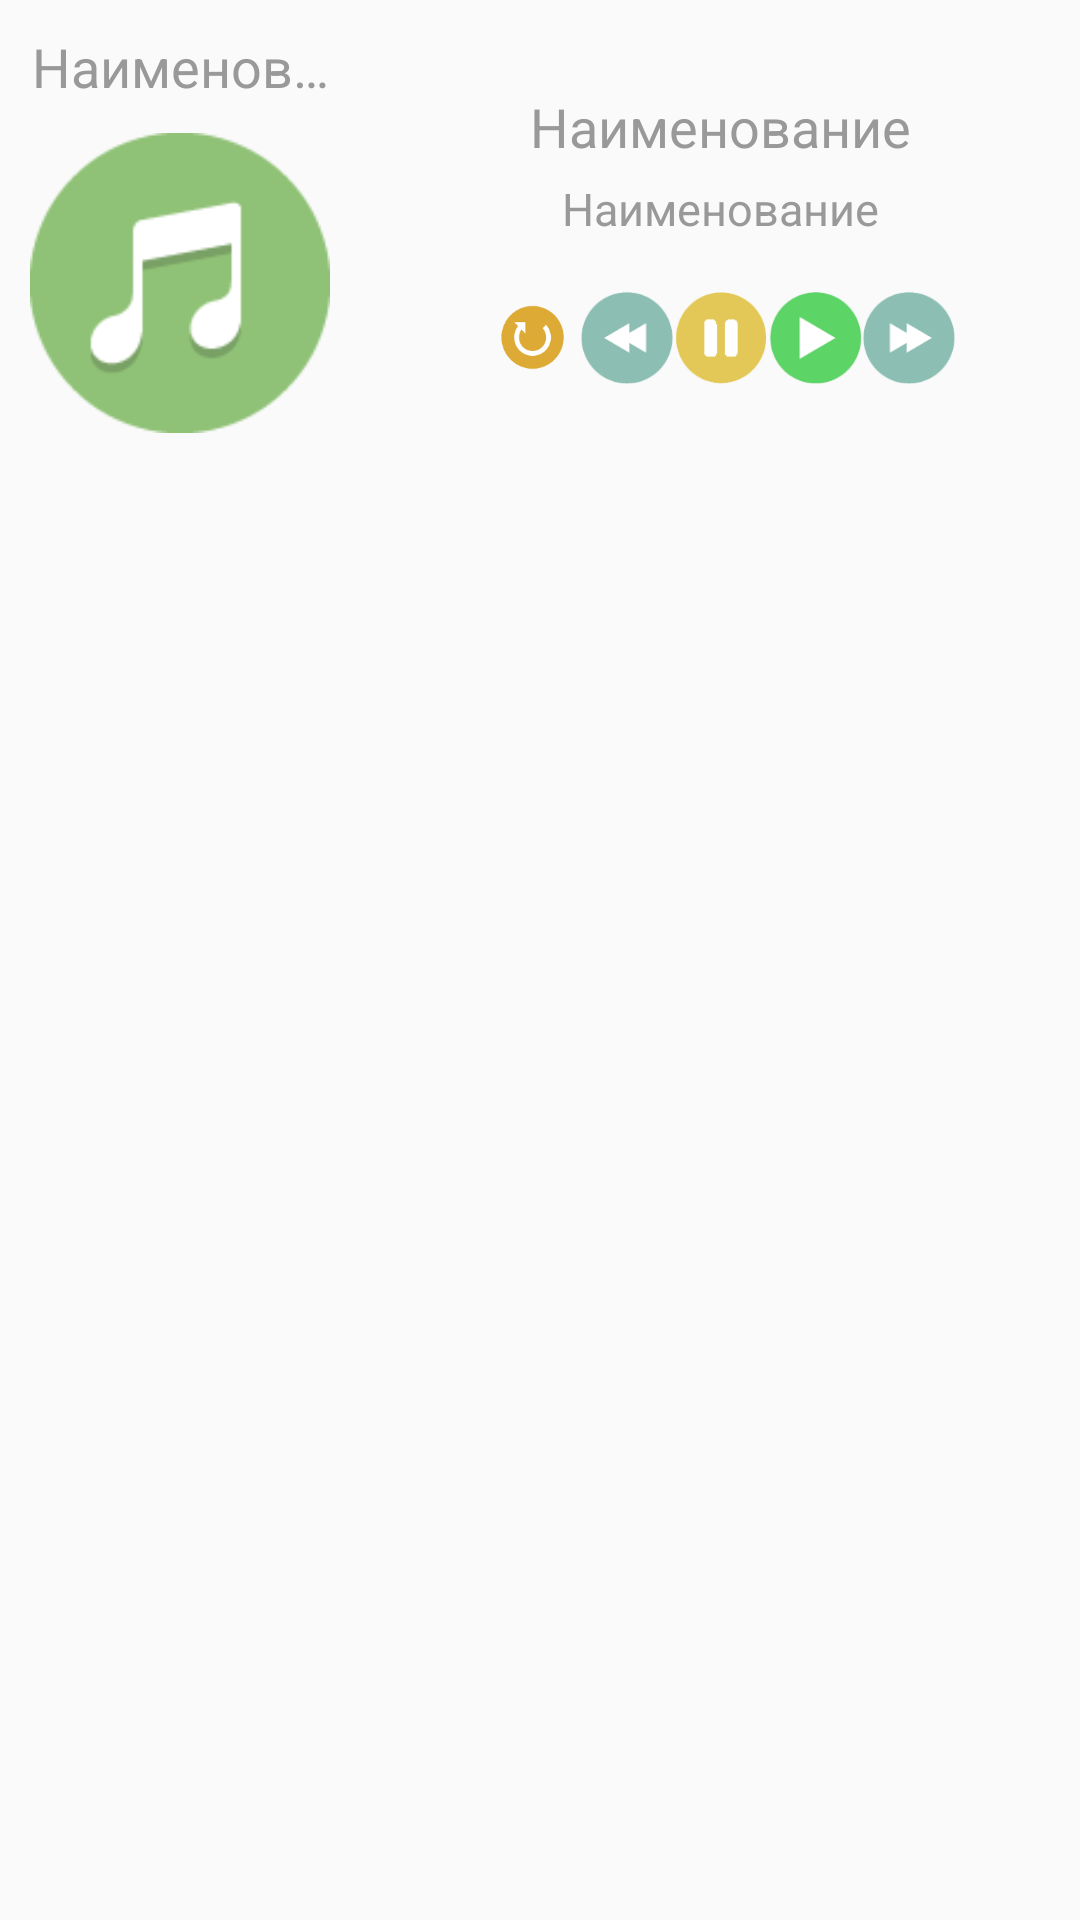

Screen size 1080*1920. Icon name, then its center in pixels as [x,y]:
next: [909,338]
pause: [721,338]
play: [815,338]
prev: [627,338]
